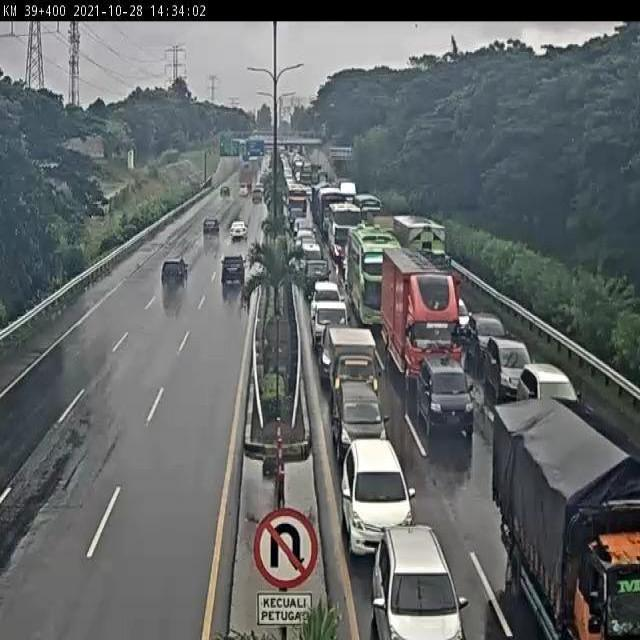bus-l-: (348, 228, 401, 329), (325, 202, 365, 258)
car: (367, 512, 463, 639), (334, 429, 409, 539), (416, 350, 472, 438), (322, 328, 384, 405), (327, 382, 389, 458), (488, 339, 533, 401), (520, 364, 580, 409), (309, 296, 350, 352), (466, 313, 508, 360), (298, 258, 330, 298), (447, 293, 470, 335), (219, 253, 246, 287), (161, 258, 189, 286), (296, 238, 320, 266), (312, 278, 340, 302), (228, 220, 250, 241), (201, 219, 220, 240), (294, 222, 312, 242)
truck-l-: (492, 406, 640, 640), (380, 246, 459, 386), (392, 212, 456, 284)
